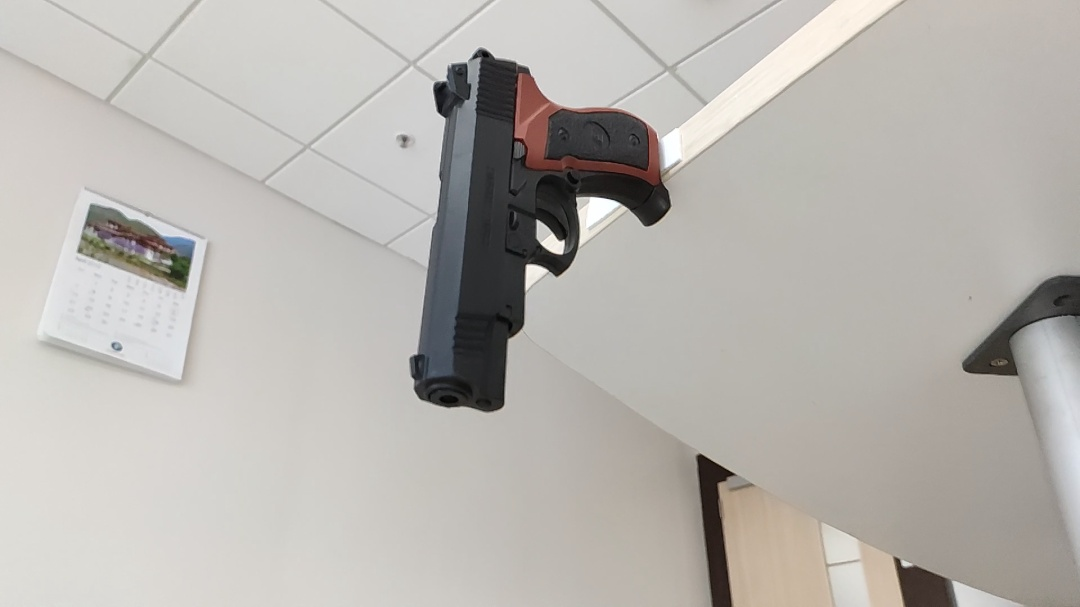gun: (644, 198, 813, 272)
